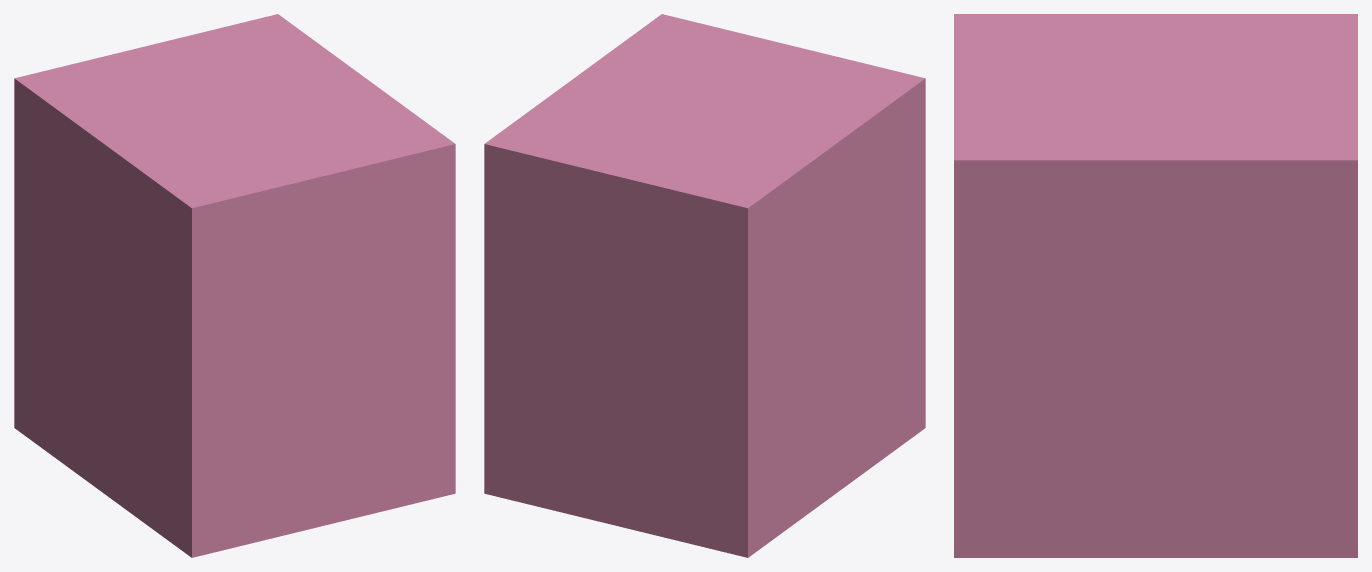
Rendered from tree_oak_bush_c.dae.
3 views of the same model, side by side, from view 1: azimuth 30°, elevation 25°; view 2: azimuth 150°, elevation 25°; view 3: azimuth 270°, elevation 25° (orthographic). The views are drawn at different scales.
Parts seen in each view (by area): view 1: Untitled; view 2: Untitled; view 3: Untitled.
Boxes of the visible parts, box(x1,y1,x2,y2) form: Untitled: box(14, 14, 455, 557); Untitled: box(484, 14, 925, 557); Untitled: box(954, 14, 1357, 557).
Size of the model in its own units: 2.29 by 2.68 by 2.91.
